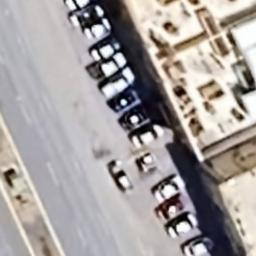pickup: (86, 54, 128, 80)
sedan: (98, 65, 136, 98), (106, 156, 134, 194), (161, 209, 199, 237), (128, 123, 168, 149), (150, 172, 184, 202), (119, 102, 154, 130), (152, 194, 186, 222), (87, 35, 123, 60), (106, 89, 144, 112), (68, 5, 106, 28), (183, 233, 216, 256), (81, 17, 115, 39), (62, 0, 105, 10)
